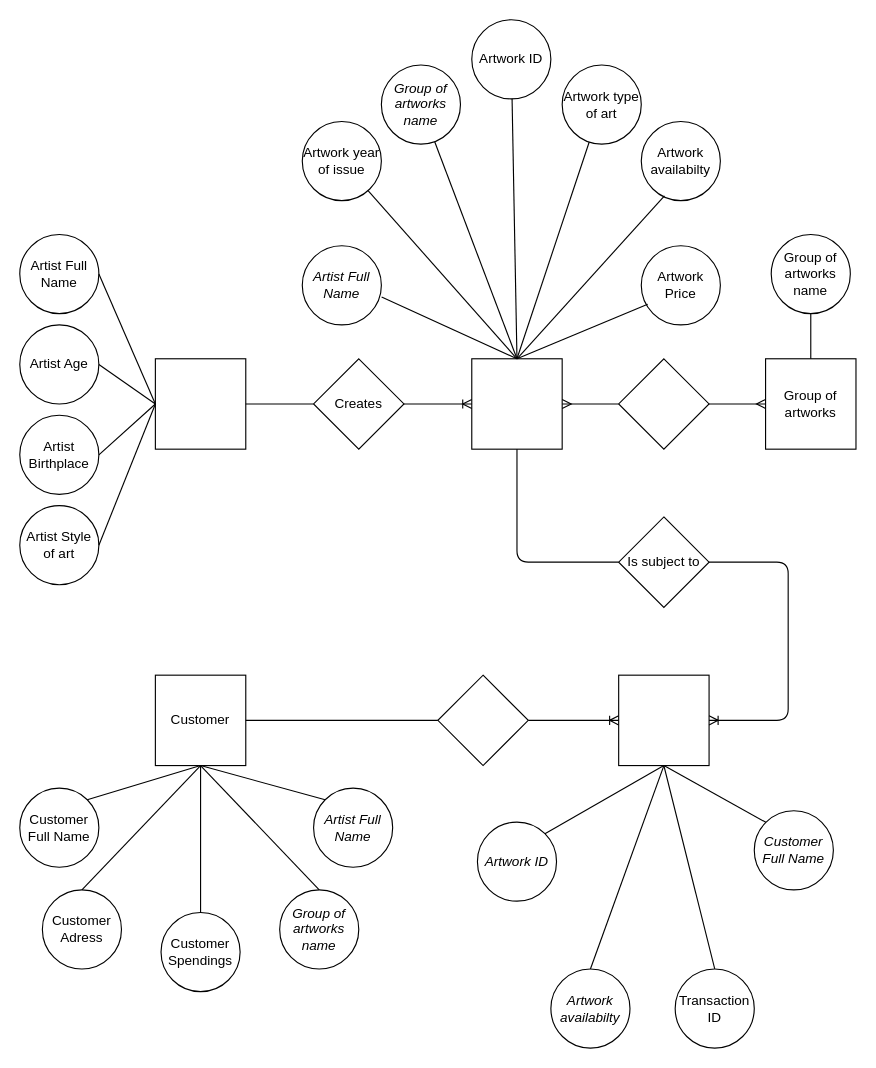
The diagram is 876 pixels wide and 1068 high, and some of its shapes have lost their labels. Here are the shapes that lost their labels. From the top down, the centre of each, then its label:
At point (200, 403): "Artist".
At point (516, 403): "Artwork".
At point (663, 403): "Belongs to".
At point (482, 720): "Conducts".
At point (663, 720): "Transaction".
